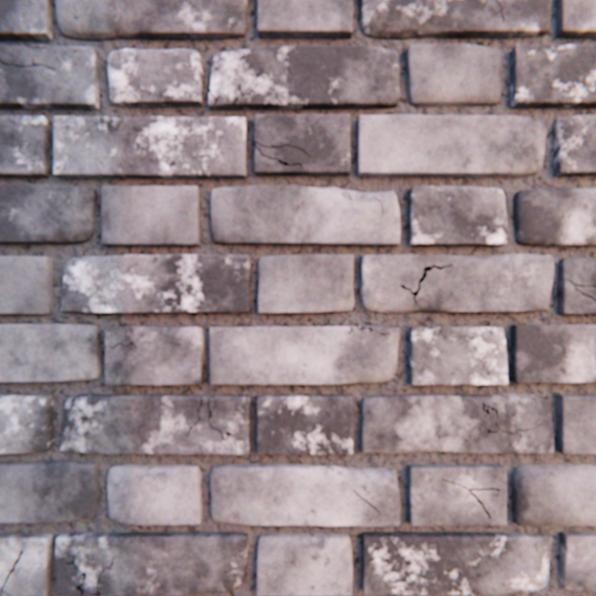brick: (56, 530, 248, 594), (54, 117, 247, 179), (209, 47, 398, 110), (362, 531, 550, 594), (357, 116, 546, 178), (211, 463, 399, 525), (61, 393, 250, 454), (359, 254, 552, 313), (360, 393, 552, 452), (211, 186, 399, 246), (61, 255, 250, 313), (210, 326, 399, 384), (56, 0, 248, 42), (359, 0, 550, 40), (0, 46, 100, 110), (0, 460, 100, 521), (408, 463, 505, 525), (257, 532, 352, 595), (406, 45, 500, 107), (102, 187, 200, 246), (0, 185, 98, 244), (408, 187, 506, 246), (0, 324, 101, 381), (105, 326, 204, 384), (255, 115, 349, 176), (257, 394, 352, 454), (108, 464, 202, 524), (409, 326, 506, 384), (258, 255, 353, 313), (109, 50, 203, 108), (509, 46, 595, 108), (510, 324, 595, 382), (258, 0, 352, 39), (0, 532, 53, 595), (0, 394, 54, 453), (0, 117, 51, 178), (0, 257, 54, 314), (552, 116, 595, 176), (555, 394, 595, 453), (558, 530, 595, 591), (556, 257, 595, 314), (0, 0, 53, 41), (555, 0, 595, 39), (2, 591, 11, 595)
broken_brick: (511, 464, 595, 525), (512, 187, 595, 246)
crack: (441, 477, 498, 517), (399, 264, 451, 304), (255, 142, 310, 169), (0, 549, 23, 595), (207, 396, 231, 439), (66, 553, 86, 594), (565, 279, 595, 301), (353, 489, 379, 511), (0, 60, 55, 70), (481, 402, 500, 429), (502, 428, 527, 444), (92, 570, 103, 594), (106, 341, 137, 347), (372, 197, 382, 211), (209, 89, 217, 106), (105, 557, 114, 568), (356, 326, 374, 331), (198, 396, 202, 415), (187, 425, 193, 437), (480, 0, 486, 11), (28, 47, 48, 50), (376, 331, 390, 335), (500, 9, 503, 24), (487, 429, 496, 432)
